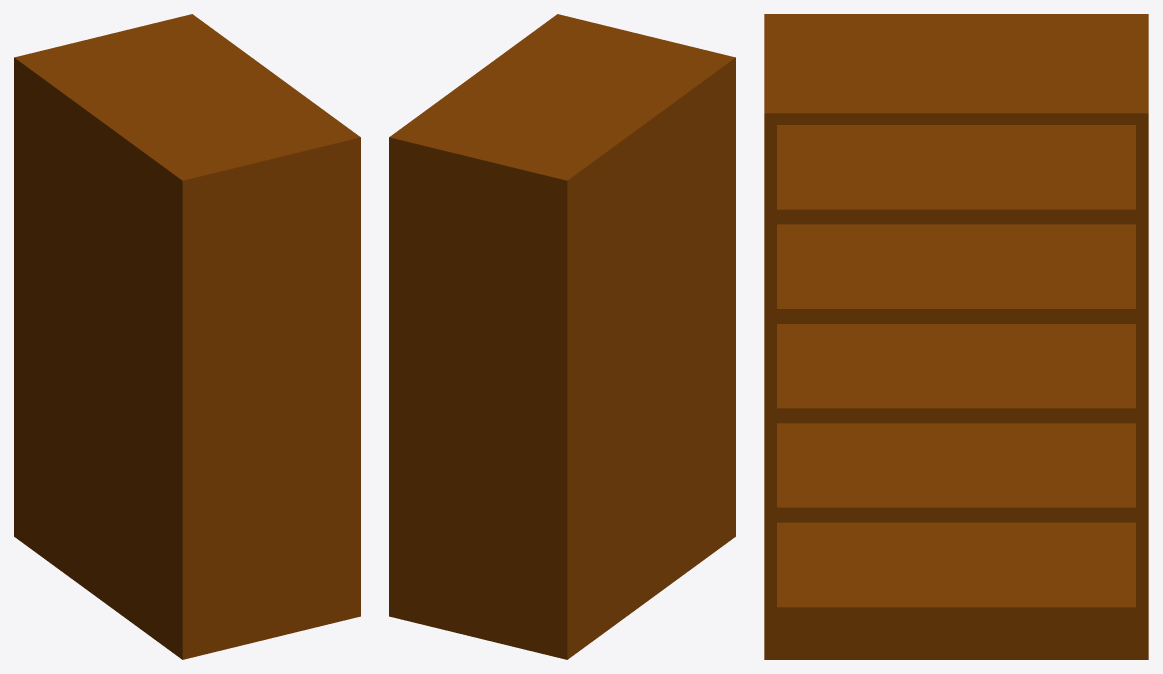
Rendered from Reol_1.fbx.
3 views of the same model, side by side, from view 1: azimuth 30°, elevation 25°; view 2: azimuth 150°, elevation 25°; view 3: azimuth 270°, elevation 25° (orthographic). The views are drawn at different scales.
Visible parts, largest first — view 1: Reol_1; view 2: Reol_1; view 3: Reol_1.
Part boxes in pixels (left/top/right/bottom): Reol_1: left=14, top=14, right=360, bottom=659; Reol_1: left=389, top=14, right=735, bottom=659; Reol_1: left=764, top=14, right=1148, bottom=659.
Bounding box in the file's own units: 122 × 314 × 200.
